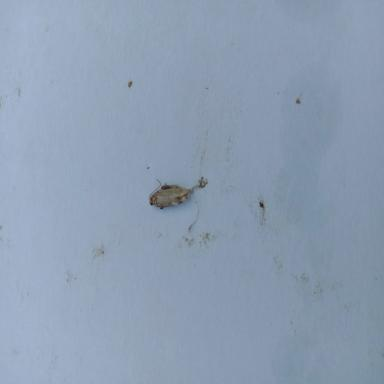pbw: (149, 178, 192, 209)
